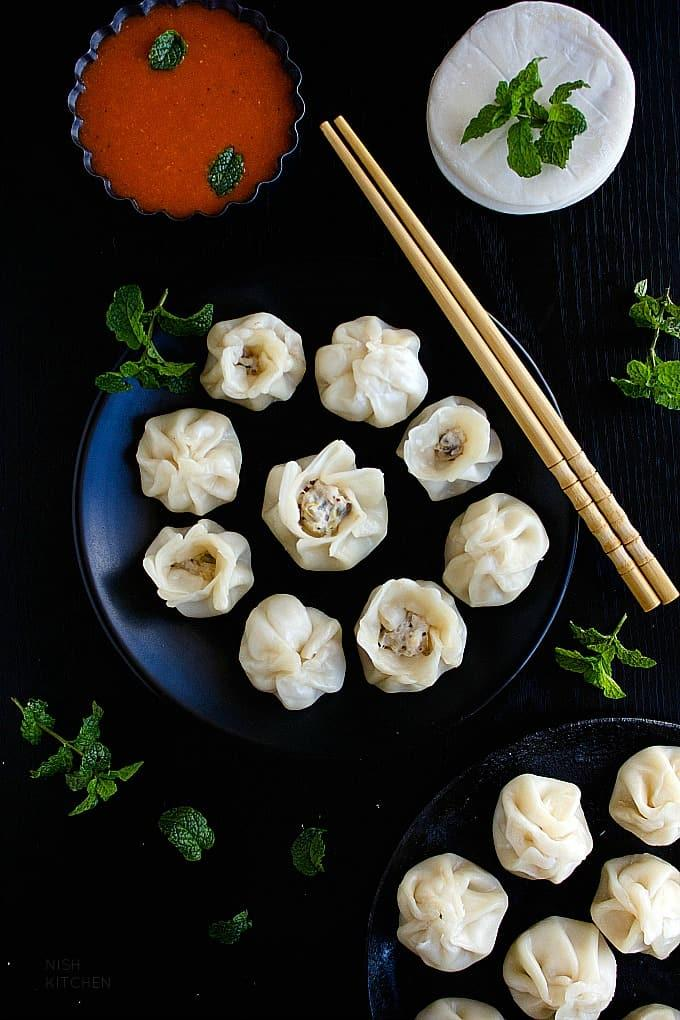momos: (396, 853, 508, 972), (315, 317, 428, 428), (239, 594, 347, 710), (442, 494, 550, 607), (504, 916, 618, 1020), (137, 408, 243, 515), (492, 773, 594, 884), (592, 853, 680, 959), (610, 745, 680, 846)
